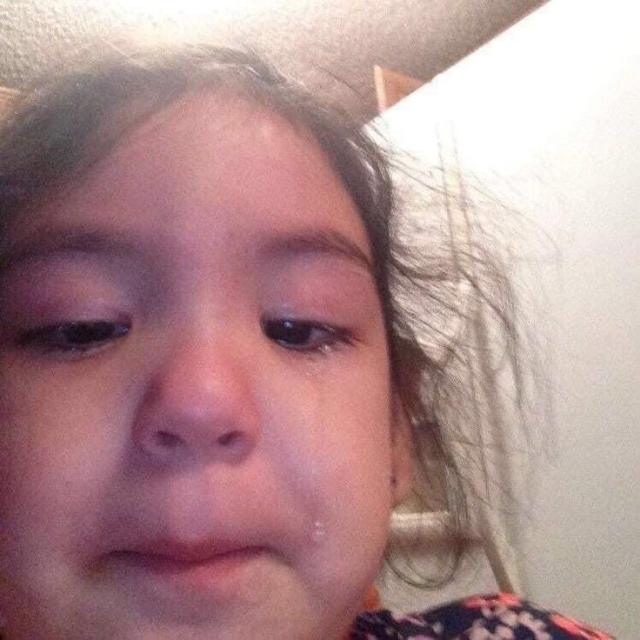natural: (3, 163, 390, 640)
